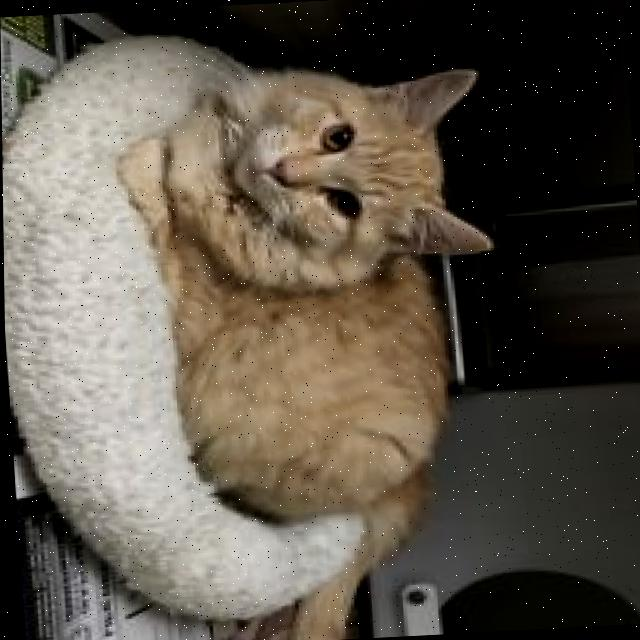Maine Coon: (116, 55, 520, 640)
